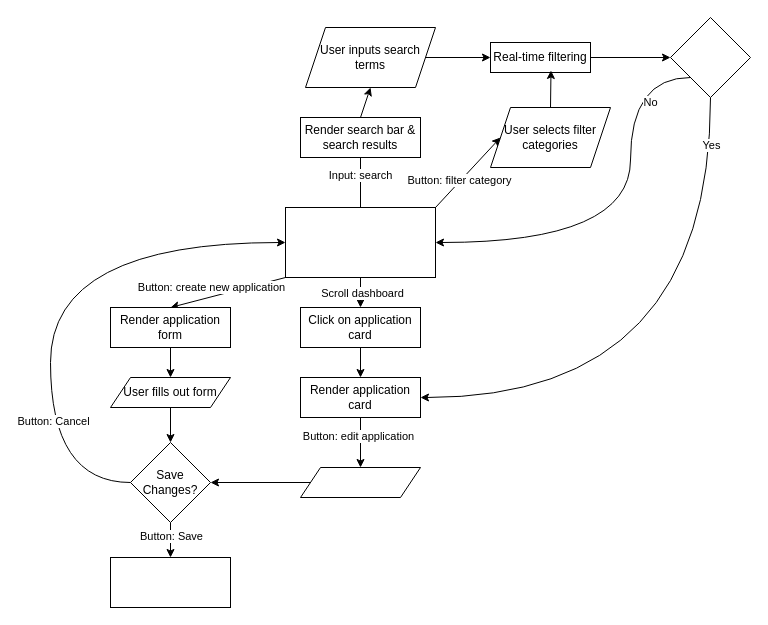
Some shapes in this 768 by 625 pixel diagram are drawn without their labels. The centre of each missing label's shape, as x and y in pixels:
Click application card?: the point at 710,57
Save to localstorage: the point at 170,582
Site Entry: Application Dashboard: the point at 360,242
User edits form: the point at 360,482
